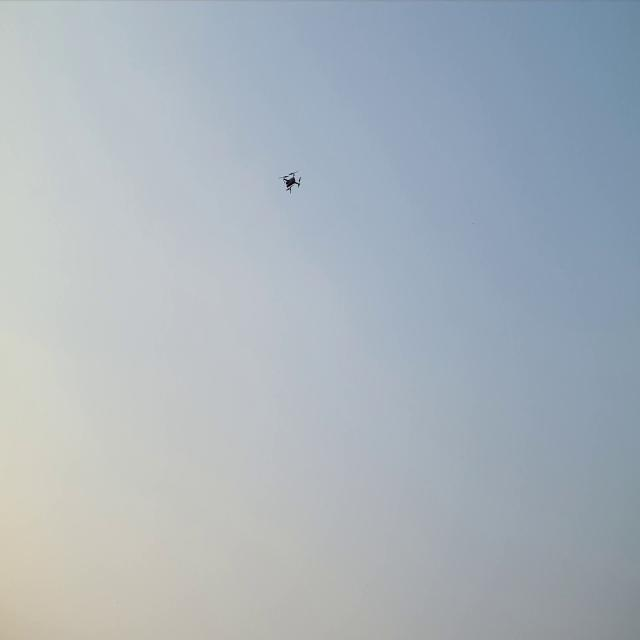UAV: (276, 168, 304, 194)
